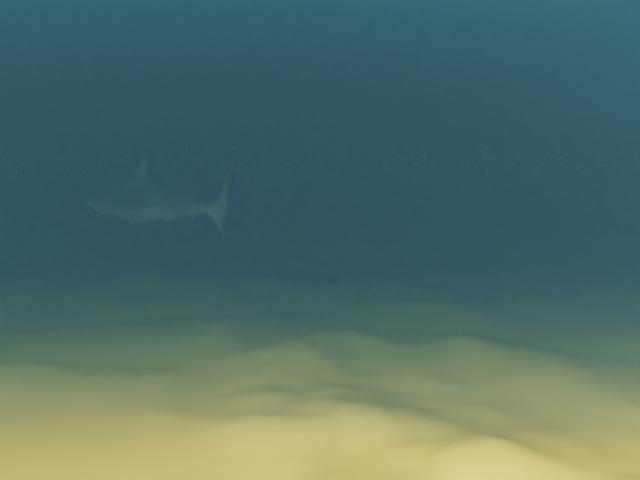Carribean Shark.001: (78, 153, 231, 239)
